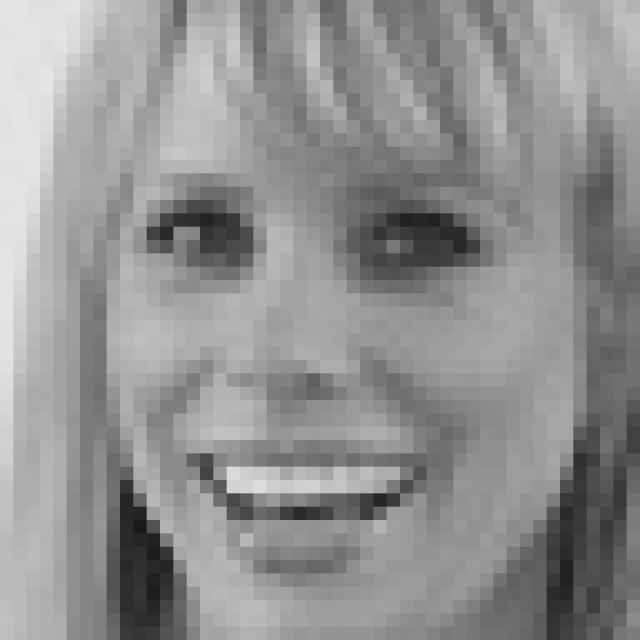happy: (136, 161, 525, 581)
